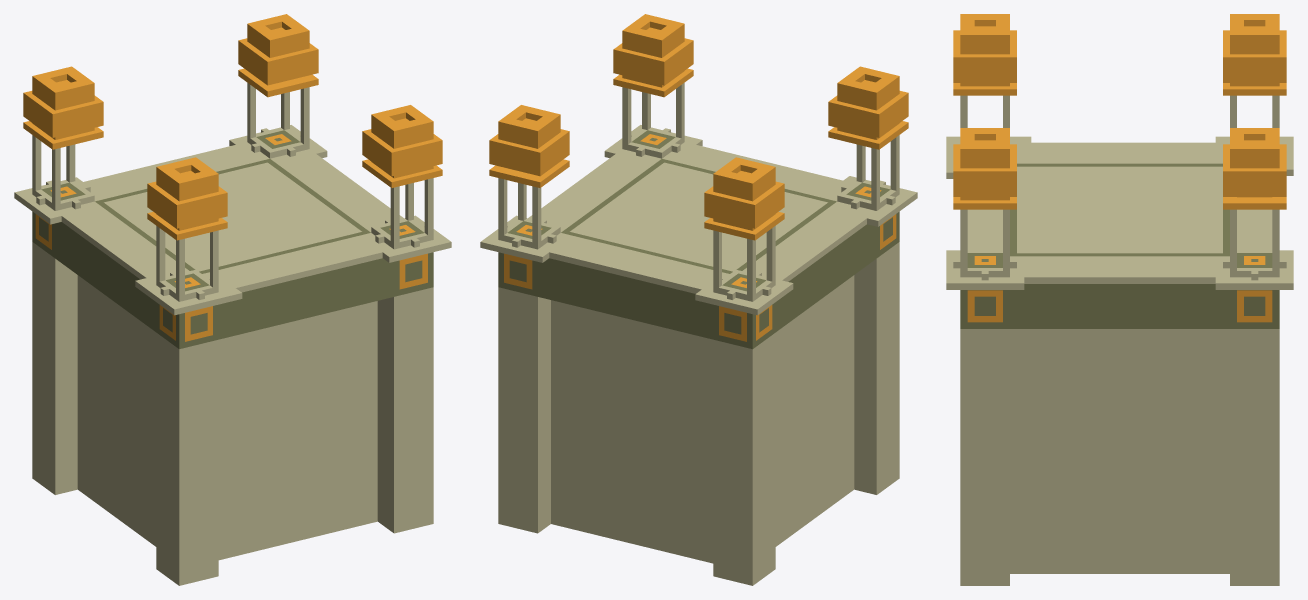
3 views of the same model, side by side, from view 1: azimuth 30°, elevation 25°; view 2: azimuth 150°, elevation 25°; view 3: azimuth 270°, elevation 25° (orthographic). The views are drawn at different scales.
Parts seen in each view (by area): view 1: 台子; view 2: 台子; view 3: 台子.
Boxes of the visible parts, left/top/right/bottom form: 台子: left=14, top=14, right=451, bottom=585; 台子: left=480, top=14, right=917, bottom=585; 台子: left=946, top=14, right=1293, bottom=585.
Bounding box in the file's own units: 57.06 × 79.18 × 57.06.
1 material, 1 textured.
